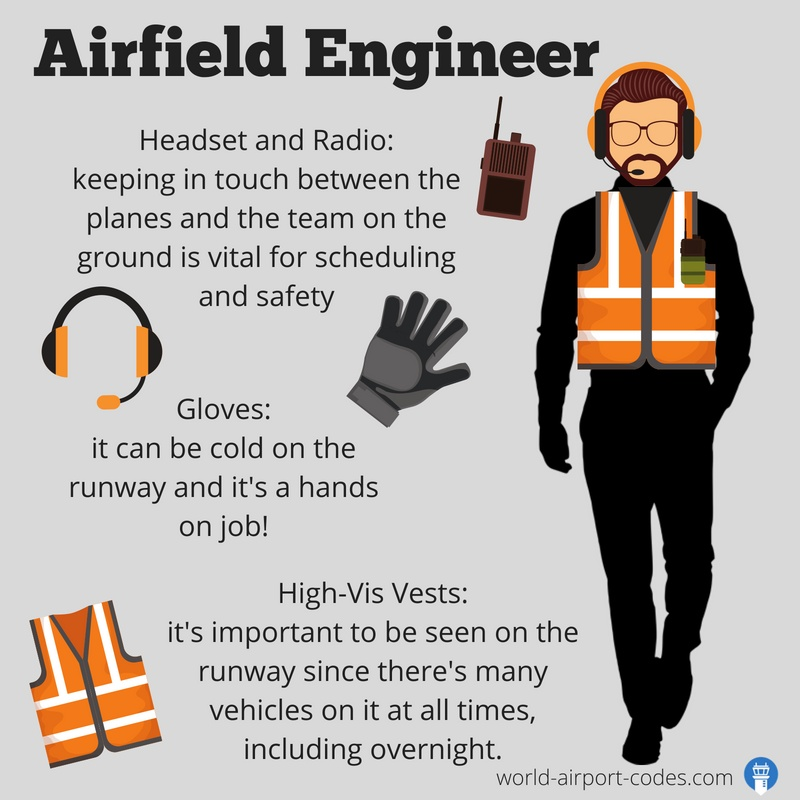person with partial safety: (543, 58, 752, 767)
safety vest: (572, 190, 720, 371), (21, 600, 162, 772)
